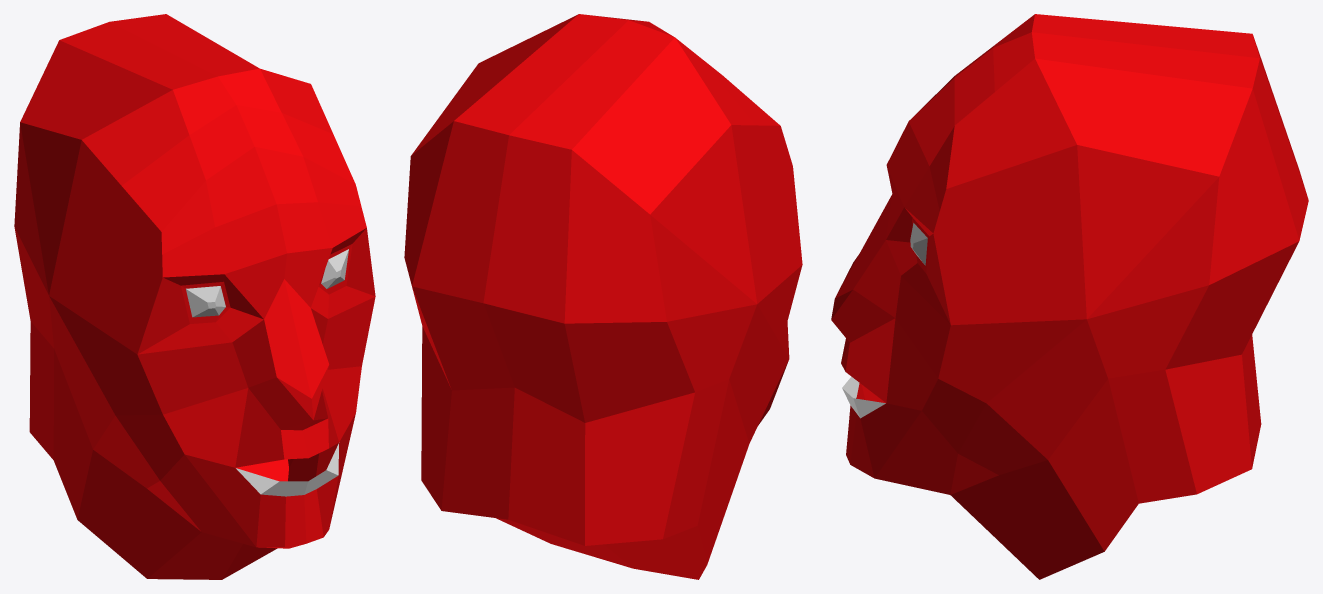
3 renders of one model, left to right at view 1: azimuth 30°, elevation 25°; view 2: azimuth 150°, elevation 25°; view 3: azimuth 270°, elevation 25°, orthographic. The views are drawn at different scales.
Visible parts, largest first — view 1: IA_Face; view 2: IA_Face; view 3: IA_Face.
Boxes of the visible parts, box(x1,y1,x2,y2) form: IA_Face: box(14, 14, 375, 579); IA_Face: box(404, 14, 802, 579); IA_Face: box(831, 14, 1308, 579).
Bounding box in the file's own units: 338 × 567 × 467.
